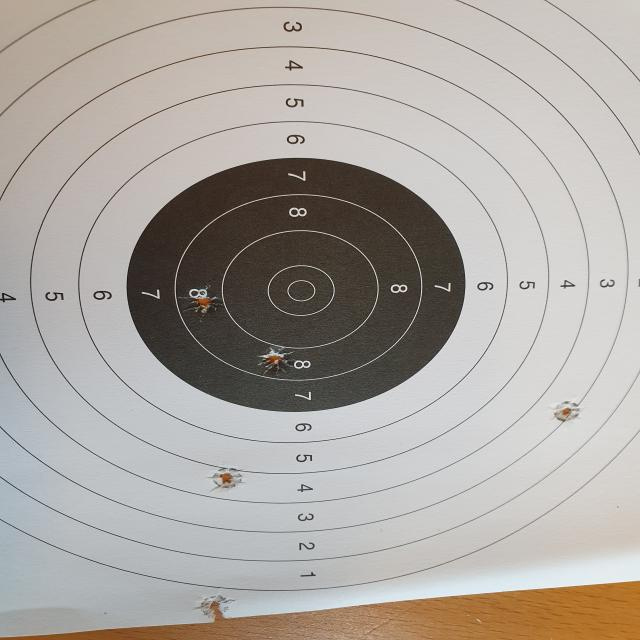4: (550, 400, 584, 422)
6: (208, 464, 245, 492)
9: (252, 346, 294, 374), (182, 292, 220, 317)
Black Contour: (128, 157, 466, 413)
Target: (0, 0, 640, 590)
hole: (194, 595, 234, 626)
